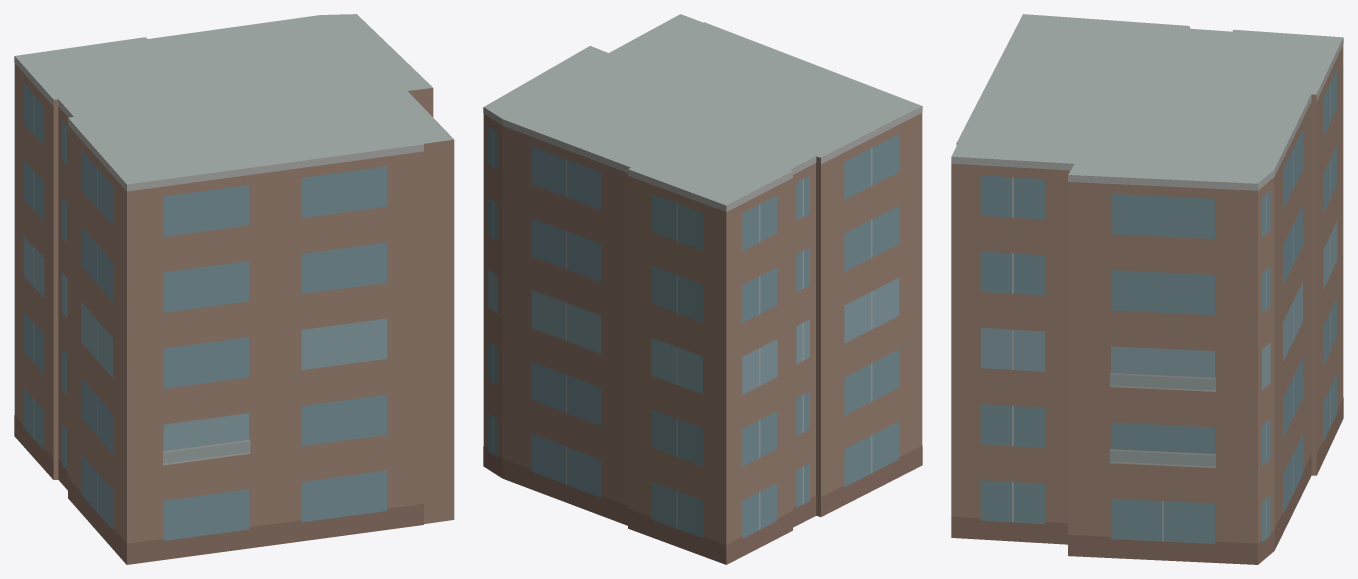
File: survey-upis-32654718.glb
The picture shows the model from 3 angles, left to right: view 1: azimuth 30°, elevation 25°; view 2: azimuth 150°, elevation 25°; view 3: azimuth 270°, elevation 25°; orthographic projection. The views are drawn at different scales.
Parts seen in each view (by area): view 1: survey-upis-32654718.tmp; view 2: survey-upis-32654718.tmp; view 3: survey-upis-32654718.tmp.
Boxes of the visible parts, left/top/right/bottom form: survey-upis-32654718.tmp: left=14, top=14, right=454, bottom=564; survey-upis-32654718.tmp: left=483, top=14, right=922, bottom=564; survey-upis-32654718.tmp: left=951, top=14, right=1343, bottom=564.
Size of the model in its own units: 12.72 by 13.3 by 12.41.
